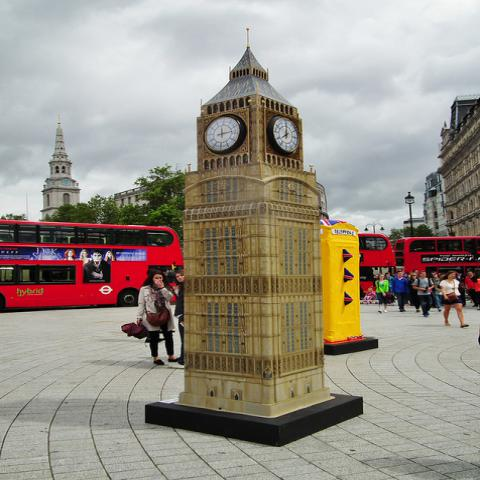bus: (4, 217, 187, 310), (393, 236, 479, 276), (358, 234, 398, 300)
